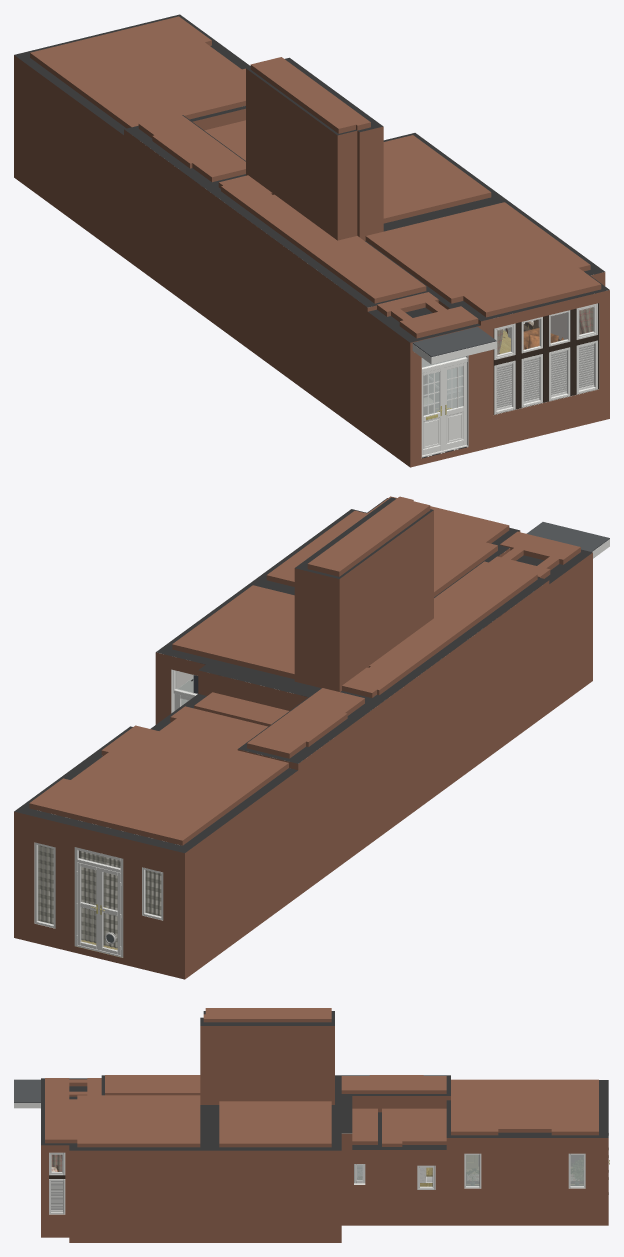
The model's file is home.glb.
The picture shows the model from 3 angles, top to bottom: view 1: azimuth 30°, elevation 25°; view 2: azimuth 150°, elevation 25°; view 3: azimuth 270°, elevation 25°; orthographic projection. The views are drawn at different scales.
Visible parts, largest first — view 1: shell.exterior, living.ceiling, dining.ceiling, hallway.ceiling, shell.wall_tops, kitchen.ceiling, living.w_bay_front.glass, stairs.ceiling, living.w_bay_front.frame, living.w_bay_front.shutters, living.w_bay_front.timber, vestibule.ceiling (+7 smaller); view 2: shell.exterior, dining.ceiling, shell.wall_tops, hallway.ceiling, kitchen.ceiling, living.ceiling, stairs.ceiling, dining.curtain.1.closed, utility.ceiling, vestibule.ceiling, wc.ceiling, dining.curtain.0.closed (+9 smaller); view 3: shell.exterior, dining.ceiling, living.ceiling, shell.wall_tops, kitchen.ceiling, hallway.ceiling, utility.ceiling, stairs.ceiling, vestibule.ceiling, wc.ceiling, vestibule.canopy, living.w_bay_cheek_e.glass (+4 smaller).
Part boxes in pixels (left/top/right/bottom): shell.exterior: left=14, top=55, right=609, bottom=467; living.ceiling: left=365, top=202, right=601, bottom=317; dining.ceiling: left=30, top=16, right=245, bottom=128; hallway.ceiling: left=138, top=113, right=426, bottom=303; shell.wall_tops: left=14, top=14, right=609, bottom=342; kitchen.ceiling: left=383, top=135, right=491, bottom=223; living.w_bay_front.glass: left=497, top=307, right=593, bottom=409; stairs.ceiling: left=250, top=57, right=370, bottom=133; living.w_bay_front.frame: left=494, top=303, right=597, bottom=414; living.w_bay_front.shutters: left=496, top=344, right=594, bottom=410; living.w_bay_front.timber: left=493, top=303, right=598, bottom=414; vestibule.ceiling: left=377, top=292, right=478, bottom=338; shell.exterior: left=14, top=510, right=592, bottom=979; dining.ceiling: left=29, top=725, right=288, bottom=845; shell.wall_tops: left=14, top=497, right=592, bottom=853; hallway.ceiling: left=247, top=561, right=537, bottom=758; kitchen.ceiling: left=172, top=585, right=294, bottom=679; living.ceiling: left=266, top=496, right=509, bottom=596; stairs.ceiling: left=307, top=496, right=430, bottom=576; dining.curtain.1.closed: left=38, top=845, right=106, bottom=945; utility.ceiling: left=159, top=706, right=267, bottom=750; vestibule.ceiling: left=489, top=531, right=580, bottom=578; wc.ceiling: left=194, top=692, right=289, bottom=726; dining.curtain.0.closed: left=106, top=857, right=161, bottom=948; shell.exterior: left=41, top=1026, right=608, bottom=1242; dining.ceiling: left=451, top=1079, right=598, bottom=1135; living.ceiling: left=45, top=1095, right=200, bottom=1147; shell.wall_tops: left=41, top=1011, right=608, bottom=1150; kitchen.ceiling: left=219, top=1101, right=331, bottom=1147; hallway.ceiling: left=105, top=1075, right=446, bottom=1095; utility.ceiling: left=382, top=1108, right=446, bottom=1146; stairs.ceiling: left=203, top=1008, right=331, bottom=1022; vestibule.ceiling: left=45, top=1078, right=101, bottom=1099; wc.ceiling: left=352, top=1108, right=377, bottom=1144; vestibule.canopy: left=14, top=1079, right=40, bottom=1108; living.w_bay_cheek_e.glass: left=51, top=1155, right=62, bottom=1211.
Bounding box in the file's own units: 5.41 × 5.87 × 18.14.
360 materials, 66 textured.
